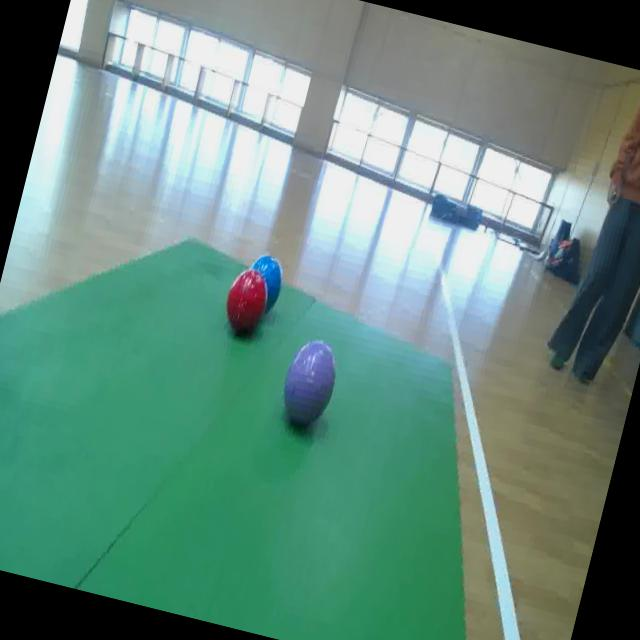blue_ball: (244, 246, 293, 317)
purple_ball: (271, 336, 347, 441)
red_ball: (217, 262, 280, 350)
